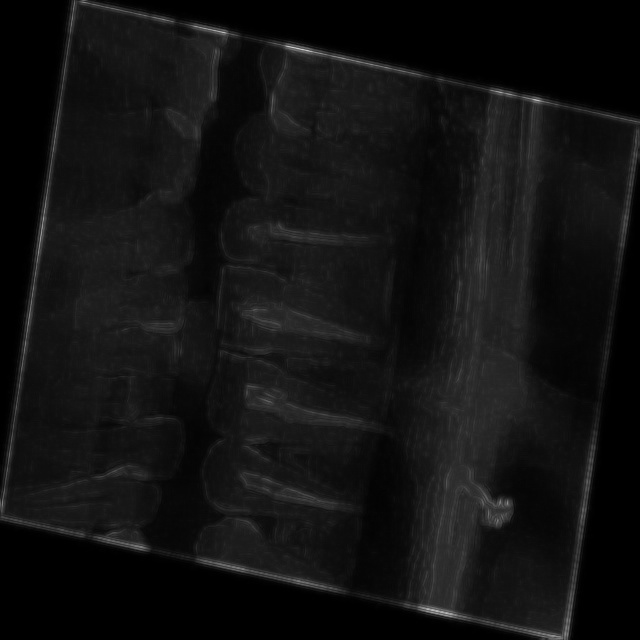Class 1- complete endodontic treatment: (189, 338, 406, 479), (199, 164, 415, 305), (201, 252, 410, 397), (182, 422, 384, 557)
